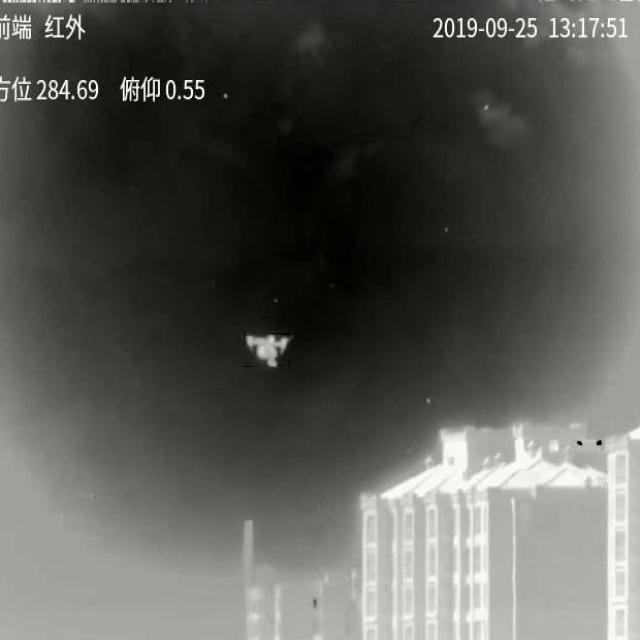drone: (246, 333, 290, 367)
